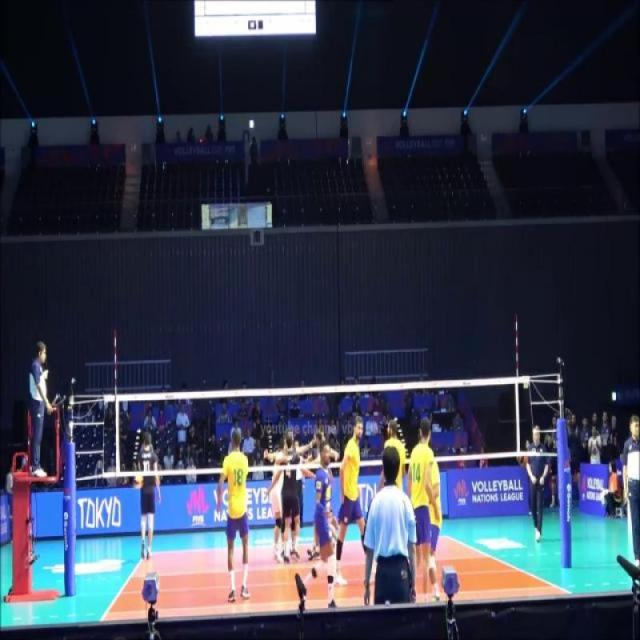volleyball: (133, 475, 144, 490)
